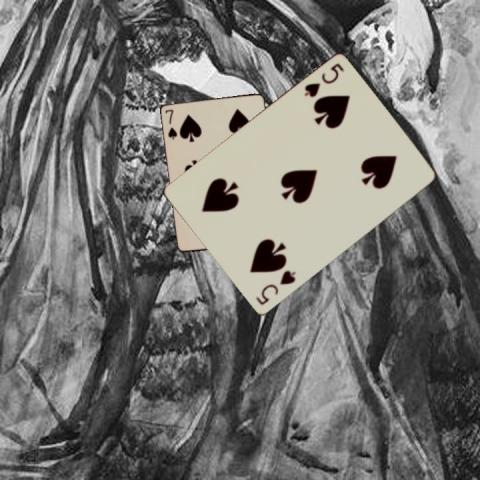5s: (253, 268, 297, 308), (301, 61, 345, 99)
7s: (162, 107, 178, 141)
